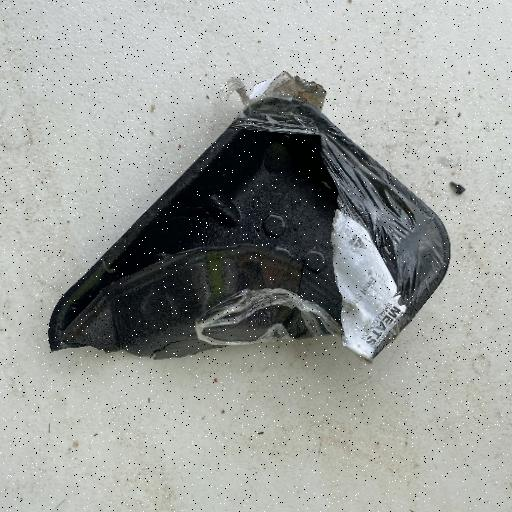Plastic: (46, 72, 452, 366)
